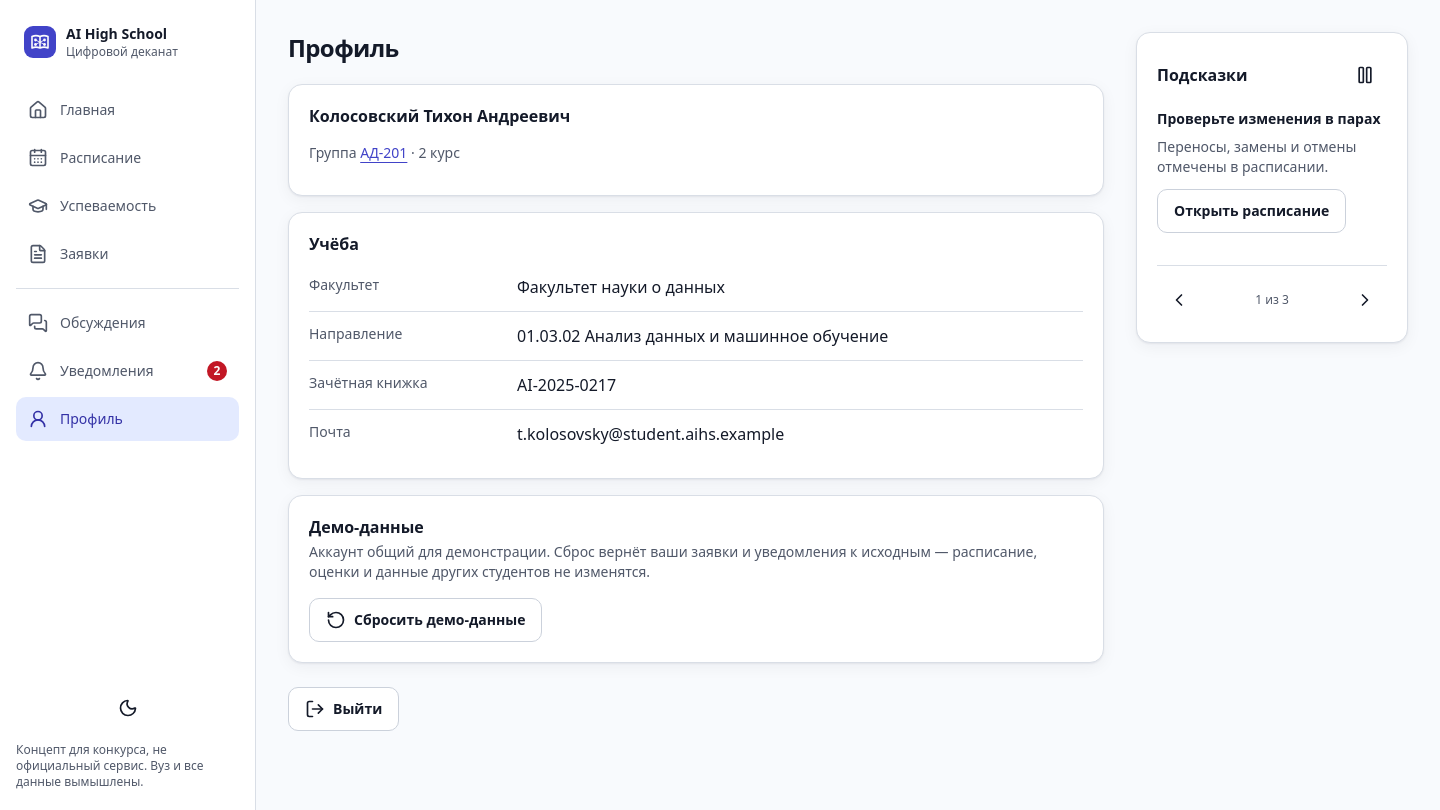
Test: второй студент переходит из профиля в свою группу
Click the link "АД-201": (384, 152) [360,143,407,162]
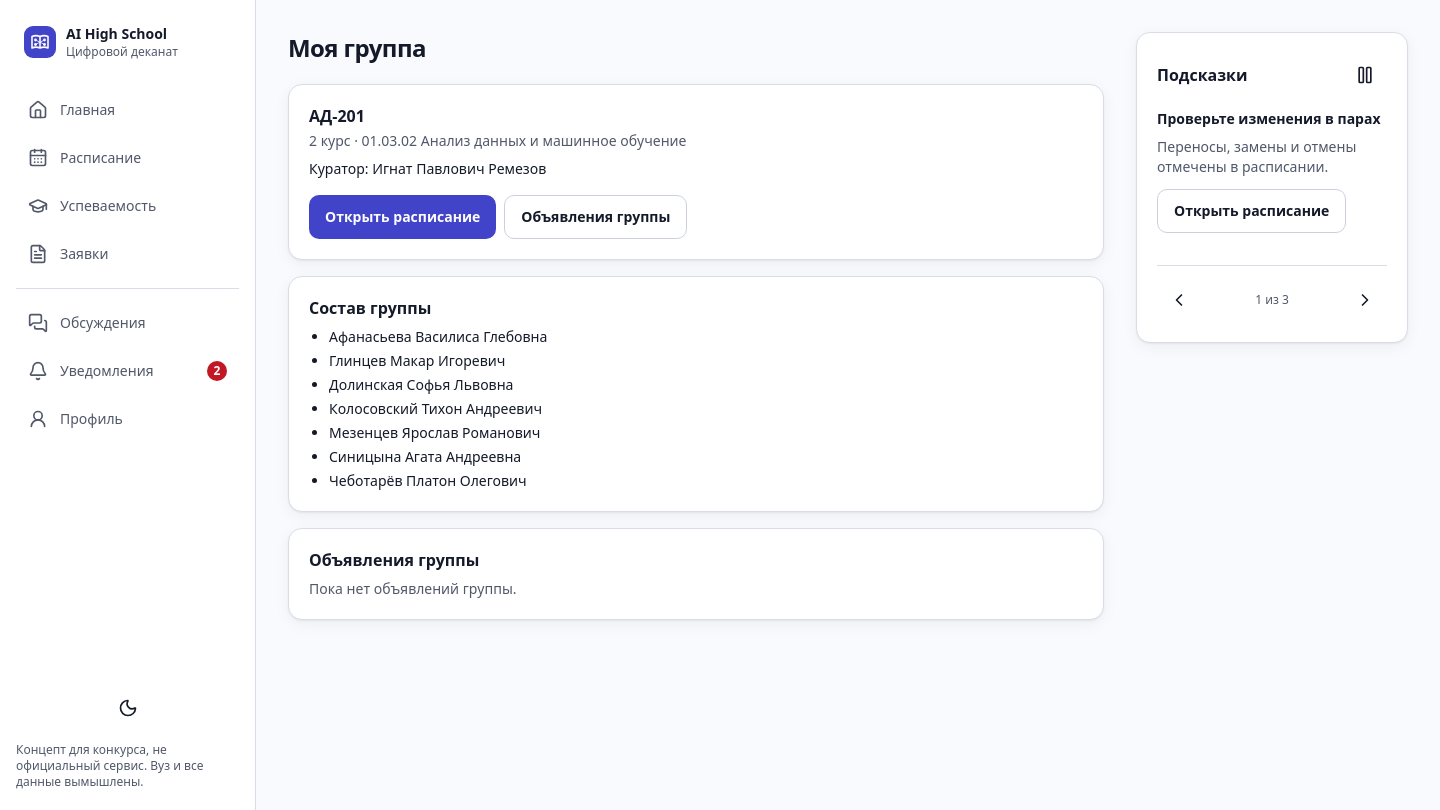
Expected: the list item "Колосовский Тихон Андреевич" is shown, [329,399,542,418]
Expected: the heading "АД-201" is shown, [309,105,365,127]
Expected: the text "Пока нет объявлений группы." is shown, [309,579,517,598]
